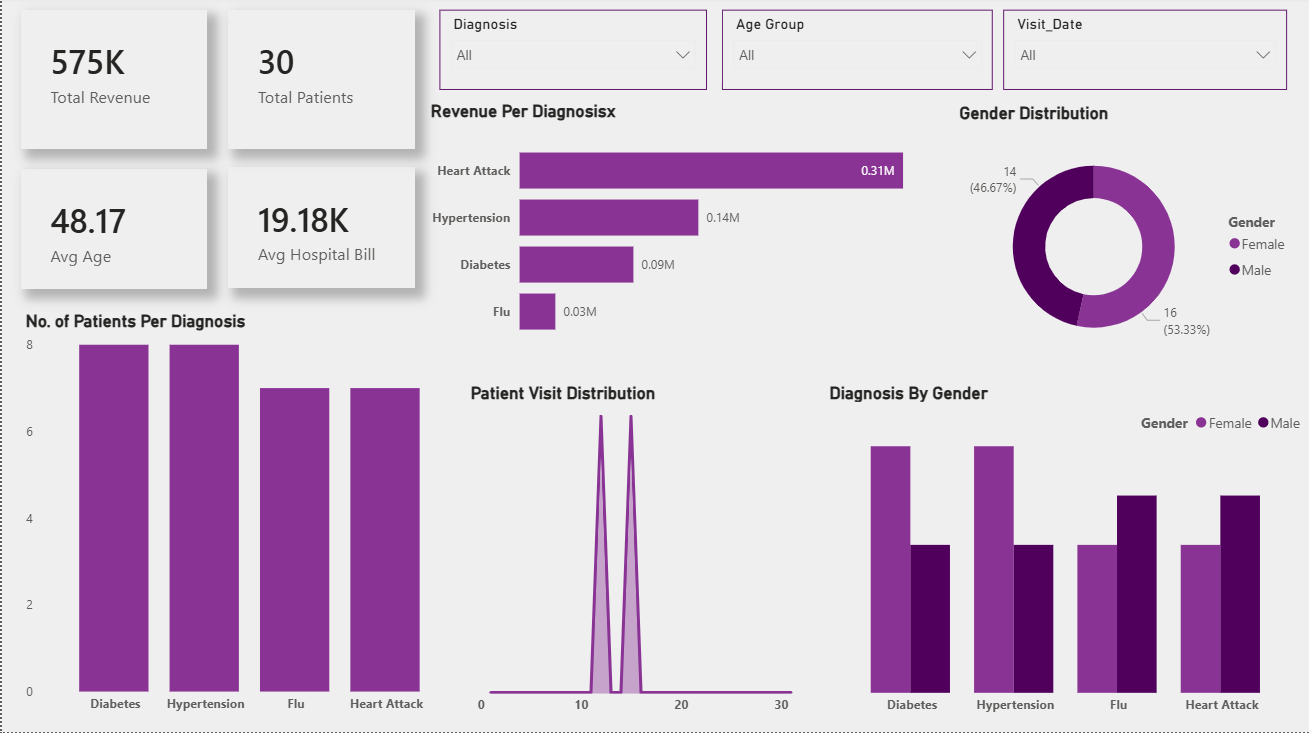

This screenshot's page, from the dashboard's own definition file:
{"tool":"powerbi","page":{"name":"Page 1","canvas":[1280,720],"ordinal":0},"visuals":[{"type":"cardVisual","fields":{"Data":["Medical_Data.Total Revenue"]},"box":[18.8,13.8,182.5,136.2],"z":0},{"type":"clusteredColumnChart","title":"No. of Patients Per Diagnosis","fields":{"Category":["Medical_Data.Diagnosis"],"Y":["CountNonNull(Medical_Data.Patient_ID)"]},"box":[18.8,308.8,433.8,402.5],"z":2000},{"type":"clusteredBarChart","title":"Revenue Per Diagnosisx","fields":{"Category":["Medical_Data.Diagnosis"],"Y":["Medical_Data.Total Revenue"]},"box":[415,102.5,498.8,248.8],"z":3000},{"type":"donutChart","title":"Gender Distribution","fields":{"Category":["Medical_Data.Gender"],"Y":["CountNonNull(Medical_Data.Patient_ID)"]},"box":[931.2,103.8,338.8,263.8],"z":3001},{"type":"lineChart","title":"Patient Visit Distribution","fields":{"Y":["CountNonNull(Medical_Data.Patient_ID)"],"Category":["Medical_Data.Visit_Date.Variation.Date Hierarchy.Day"]},"box":[453.8,377.5,372.5,333.8],"z":3002},{"type":"clusteredColumnChart","title":"Diagnosis By Gender","fields":{"Category":["Medical_Data.Diagnosis"],"Y":["CountNonNull(Medical_Data.Patient_ID)"],"Series":["Medical_Data.Gender"]},"box":[805,377.5,475,333.8],"z":3003},{"type":"cardVisual","fields":{"Data":["Medical_Data.Total Patients"]},"box":[221.2,13.8,182.5,136.2],"z":3004},{"type":"cardVisual","fields":{"Data":["Medical_Data.Avg Age"]},"box":[18.8,168.8,182.5,117.5],"z":3005},{"type":"cardVisual","fields":{"Data":["Medical_Data.Avg Hospital Bill"]},"box":[221.2,167.5,182.5,118.8],"z":3006},{"type":"slicer","fields":{"Values":["Medical_Data.Diagnosis"]},"box":[427.5,13.8,261.2,78.8],"z":3007},{"type":"slicer","fields":{"Values":["Medical_Data.Age Group"]},"box":[703.8,13.8,265,78.8],"z":3008},{"type":"slicer","fields":{"Values":["Medical_Data.Visit_Date"]},"box":[980,13.8,277.5,78.8],"z":3009}]}

Visuals, with their boxes in screenshot pixels (x1, y1, x2, y2), scaled from the page's 1280x720 canvas onto the 1309x733 screenshot:
cardVisual - Medical_Data.Total Revenue: box(19, 14, 206, 153)
"No. of Patients Per Diagnosis" clusteredColumnChart: box(19, 314, 463, 724)
"Revenue Per Diagnosisx" clusteredBarChart: box(424, 104, 935, 358)
"Gender Distribution" donutChart: box(952, 106, 1299, 374)
"Patient Visit Distribution" lineChart: box(464, 384, 845, 724)
"Diagnosis By Gender" clusteredColumnChart: box(823, 384, 1308, 724)
cardVisual - Medical_Data.Total Patients: box(226, 14, 413, 153)
cardVisual - Medical_Data.Avg Age: box(19, 172, 206, 291)
cardVisual - Medical_Data.Avg Hospital Bill: box(226, 171, 413, 291)
slicer - Medical_Data.Diagnosis: box(437, 14, 704, 94)
slicer - Medical_Data.Age Group: box(720, 14, 991, 94)
slicer - Medical_Data.Visit_Date: box(1002, 14, 1286, 94)
